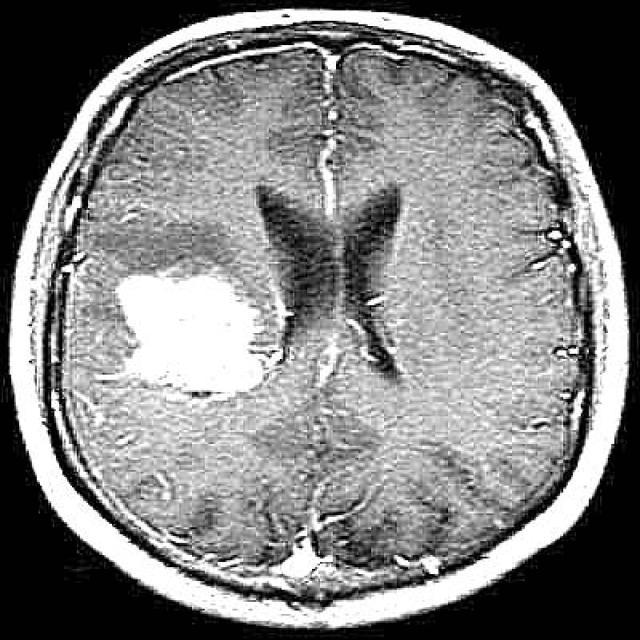brain tumor: (114, 278, 264, 389)
